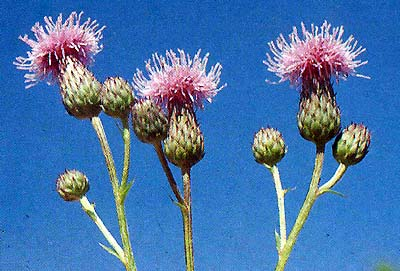thistle: (258, 20, 354, 142), (129, 50, 210, 165), (20, 19, 101, 118)
